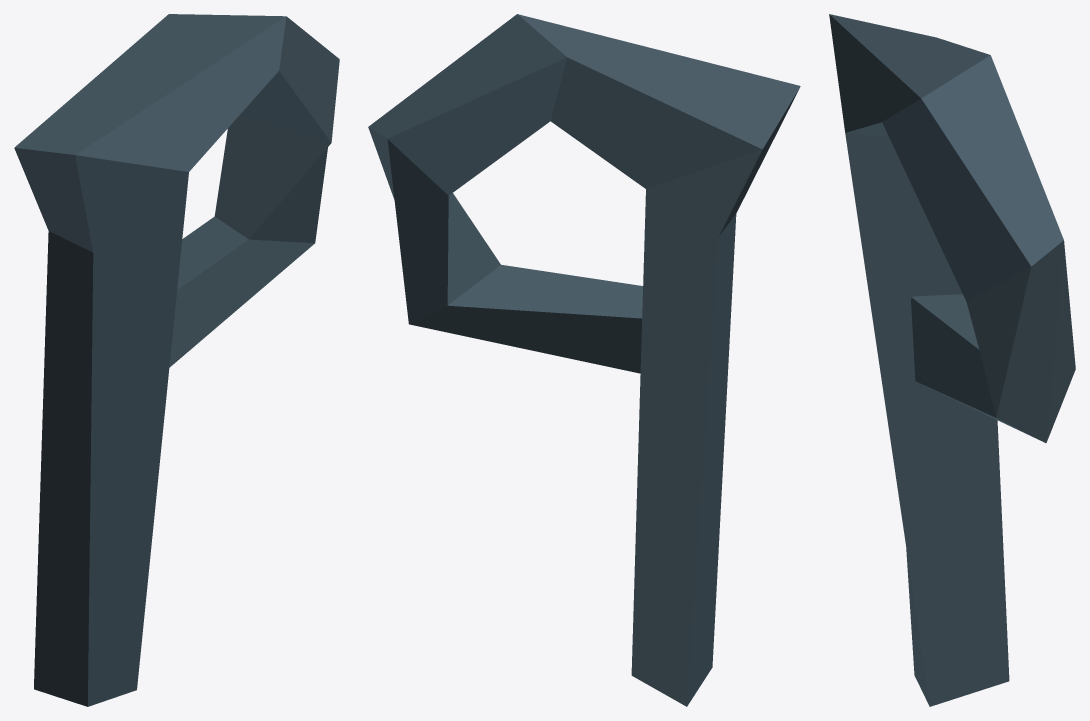
The model's file is lowercase-y.glb.
3 renders of one model, left to right at view 1: azimuth 30°, elevation 25°; view 2: azimuth 150°, elevation 25°; view 3: azimuth 270°, elevation 25°, orthographic. The views are drawn at different scales.
Size of the model in its own units: 0.2189 by 0.3662 by 0.1185.
